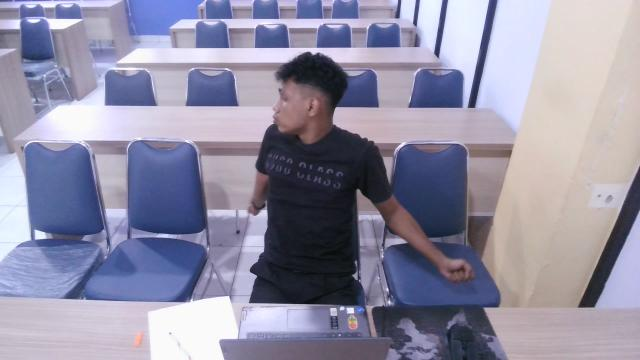Turning_Back: (219, 30, 413, 273)
